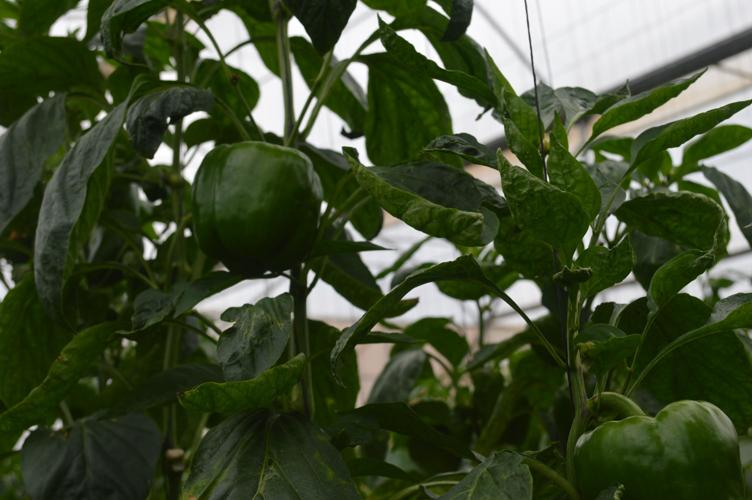BellPepper: (187, 144, 321, 269), (569, 402, 731, 500)
